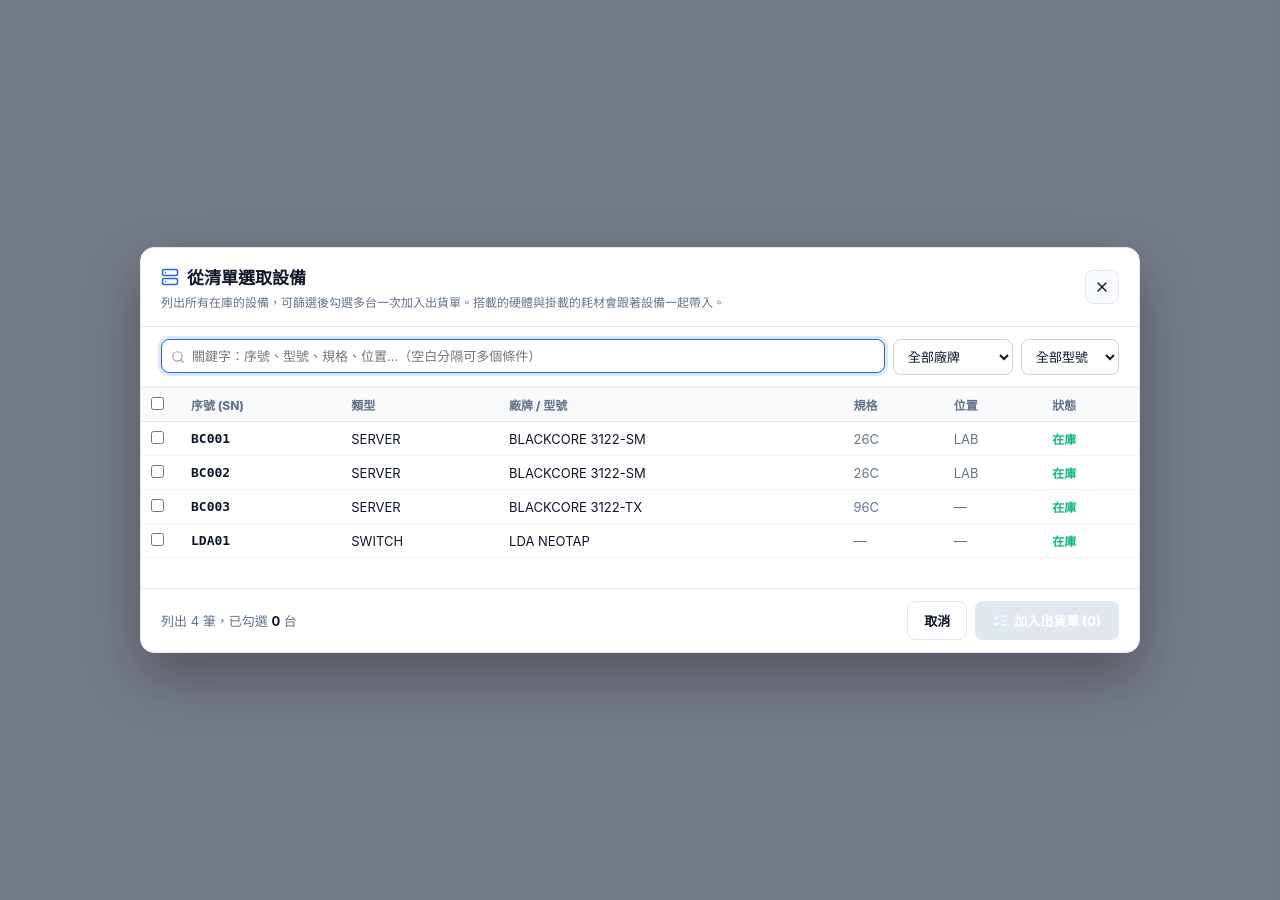
勾選視窗本身 › 可以依廠牌、型號篩選，型號選項跟著廠牌縮小
The width and height of the screenshot is (1280, 900).
Select "BLACKCORE" in the dropdown named "廠牌" at point(953, 357), box top-left (893, 339), bottom-right (1013, 375)
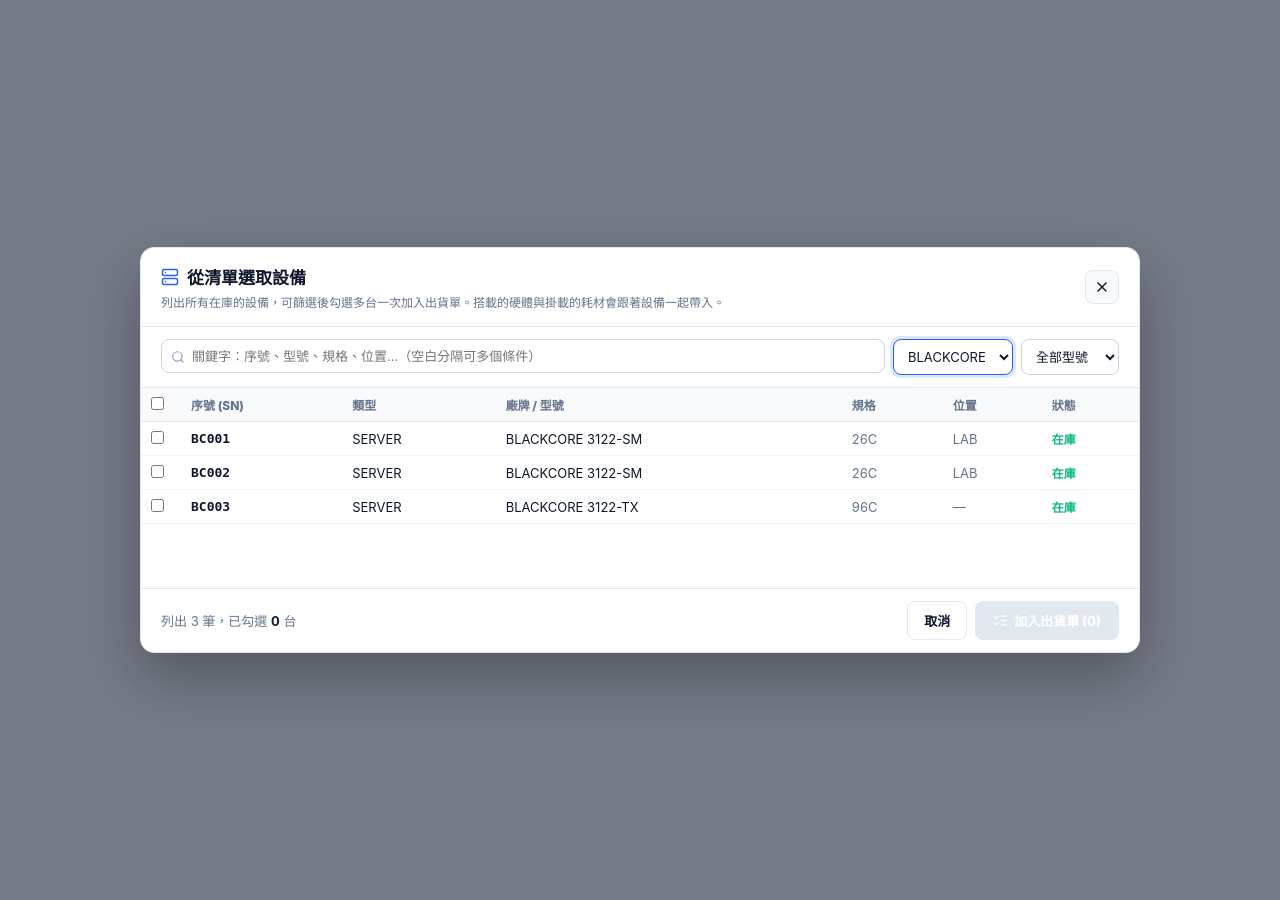
Check: the row with test id "picker-row-LDA01" is gone
Select "3122-SM" in the dropdown named "型號" at point(1070, 357), box top-left (1021, 339), bottom-right (1119, 375)
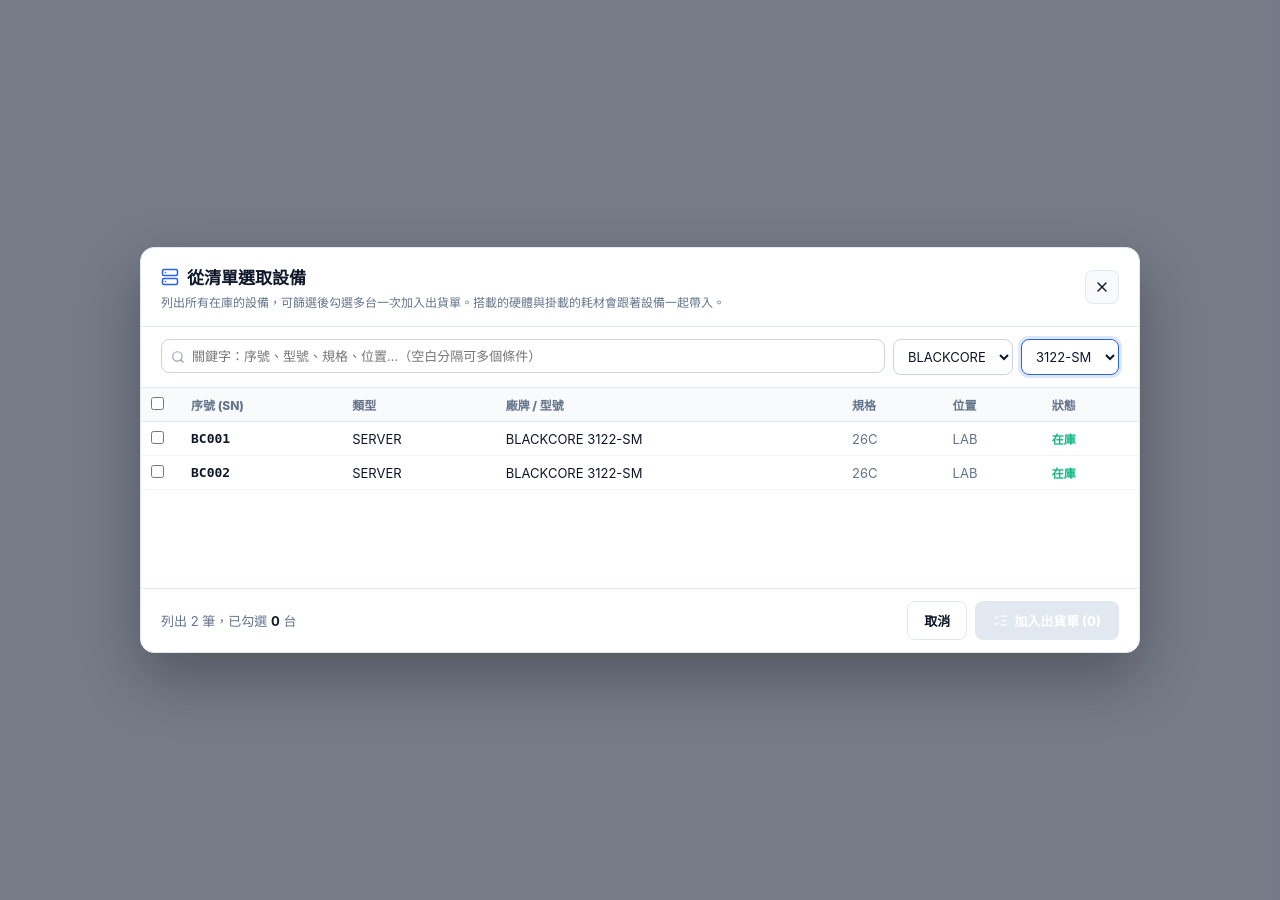
Check: the row with test id "picker-row-BC002" is shown, box top-left (141, 456), bottom-right (1139, 490)
Check: the row with test id "picker-row-BC003" is gone
